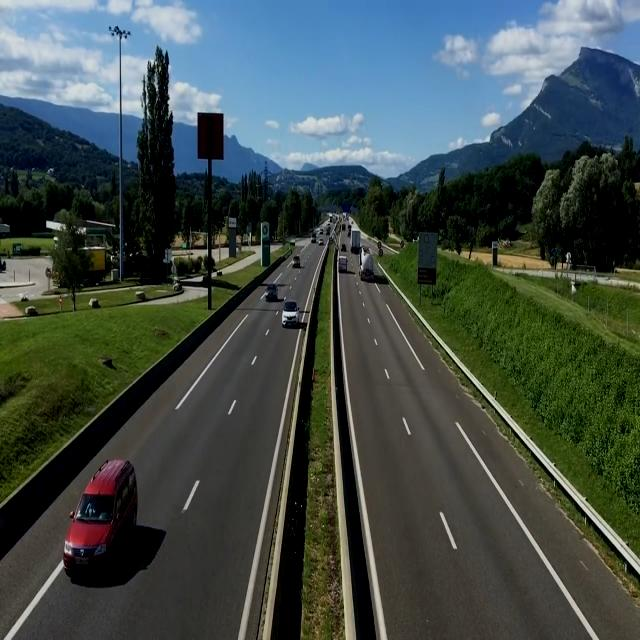Car: (61, 458, 138, 567), (280, 300, 301, 328), (264, 285, 278, 301), (291, 255, 301, 268)
Truck: (360, 244, 375, 282), (351, 229, 361, 253)
Van: (336, 255, 349, 272)
